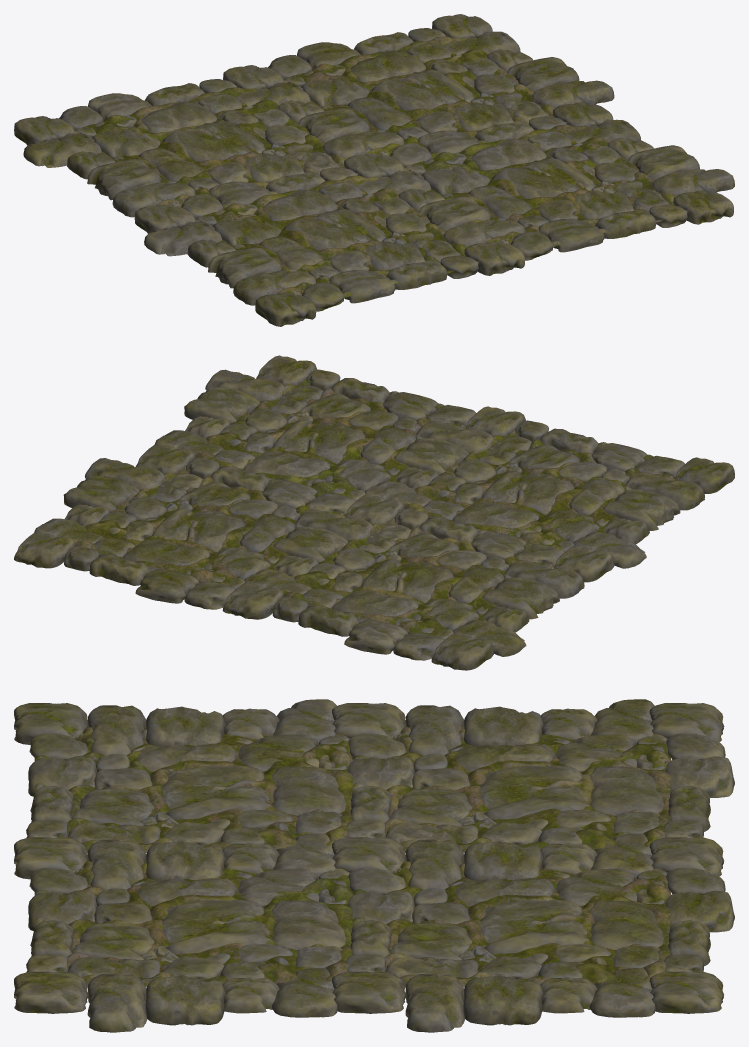
Rendered from ground.glb.
3 renders of one model, top to bottom at view 1: azimuth 30°, elevation 25°; view 2: azimuth 150°, elevation 25°; view 3: azimuth 270°, elevation 25°, orthographic. The views are drawn at different scales.
Parts seen in each view (by area): view 1: ground; view 2: ground; view 3: ground.
Part boxes in pixels (<box>): ground: <box>14,14,734,326</box>; ground: <box>14,355,734,670</box>; ground: <box>14,699,734,1032</box>.
Bounding box in the file's own units: 19.42 × 0.5907 × 18.15.
1 material, 1 textured.
